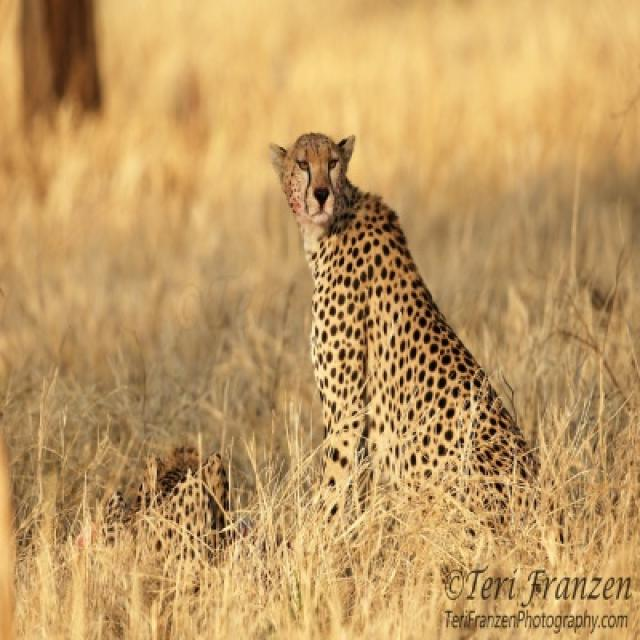Cheetah: (272, 133, 538, 526)
